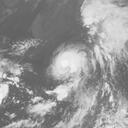cyclone: (47, 43, 91, 79)
